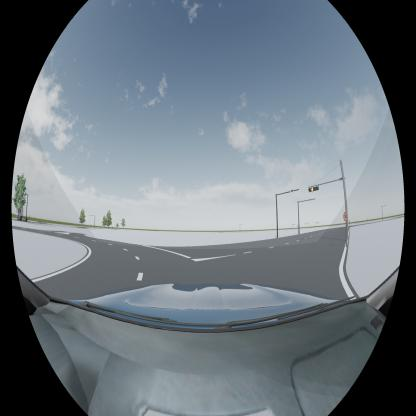Green Light: (290, 189, 294, 193)
Speed Limit 100: (343, 212, 348, 221)
